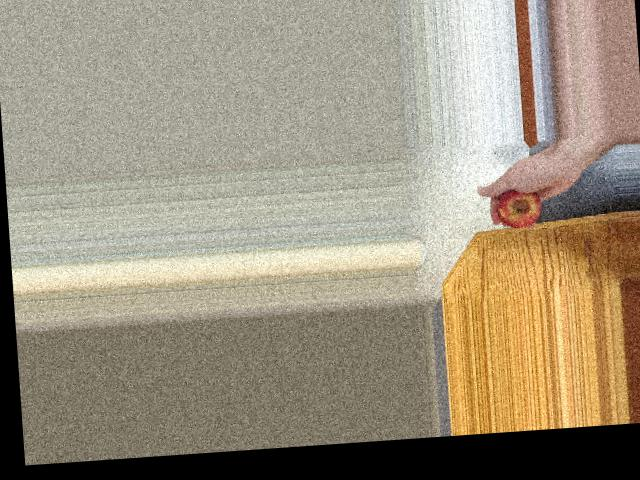apple: (493, 184, 547, 230)
